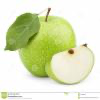Apple leaf: (2, 11, 41, 51)
